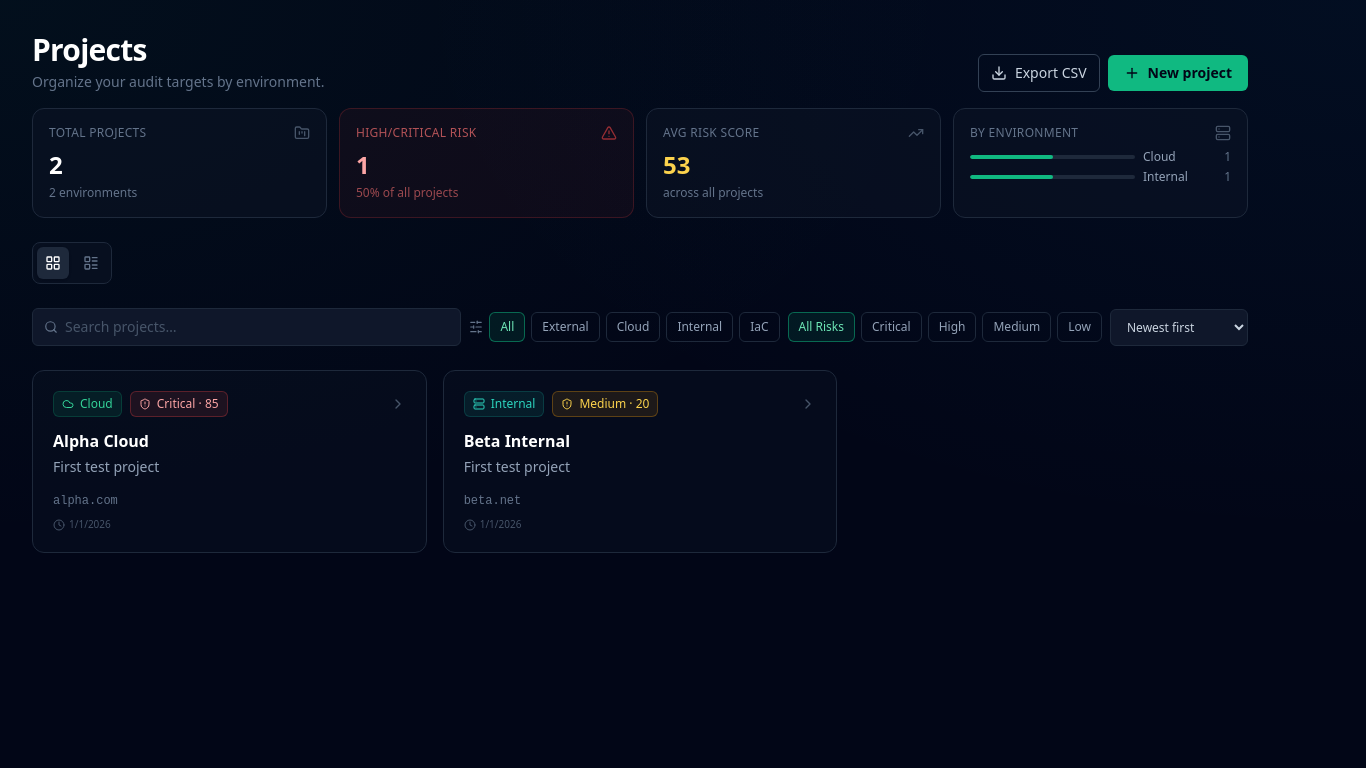
Test: Projects — search and filter › clears search via X button
expect the heading "Alpha Cloud" is shown: met, box 53,430 -> 149,452
Type "alpha" into the field with placeholder "Search projects…" at (247, 327), box 32,308 -> 461,346
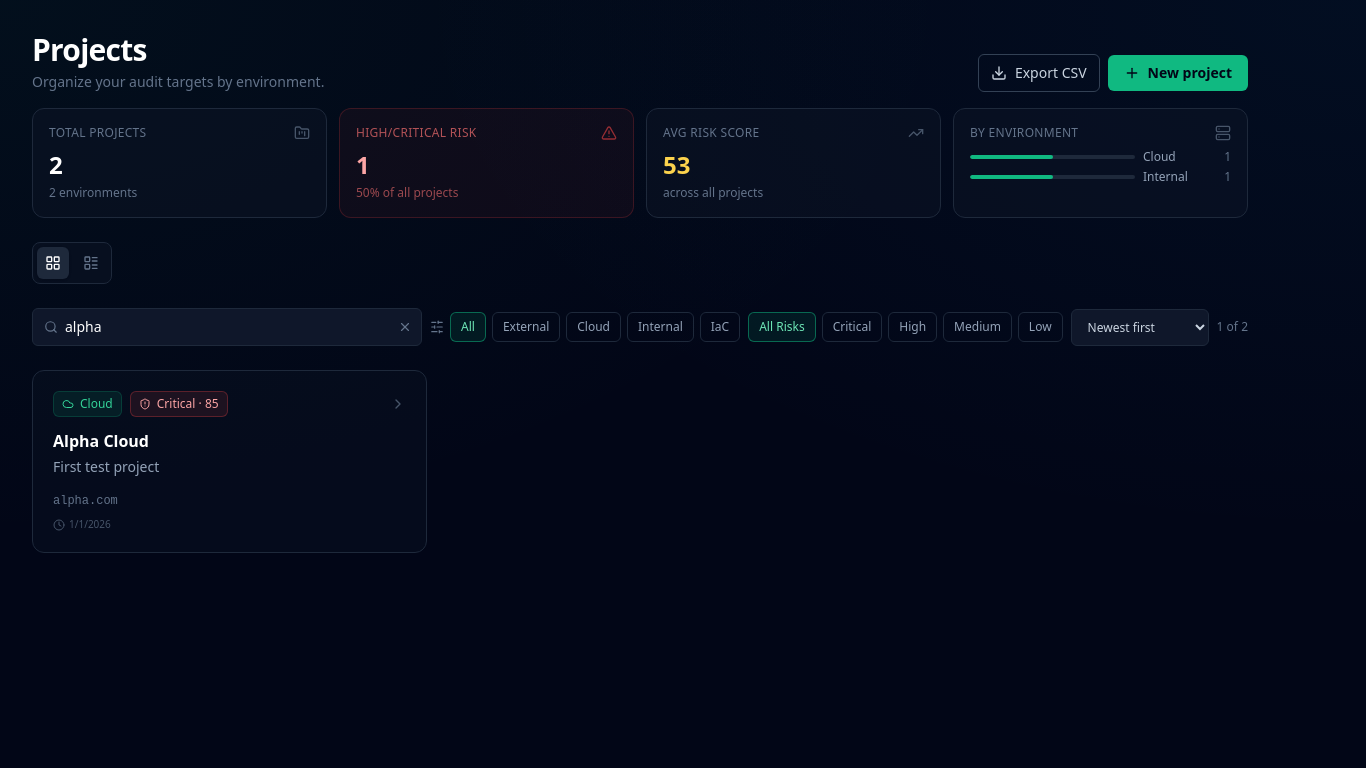
Click the button named "Clear search" at (405, 327), box 398,320 -> 412,334
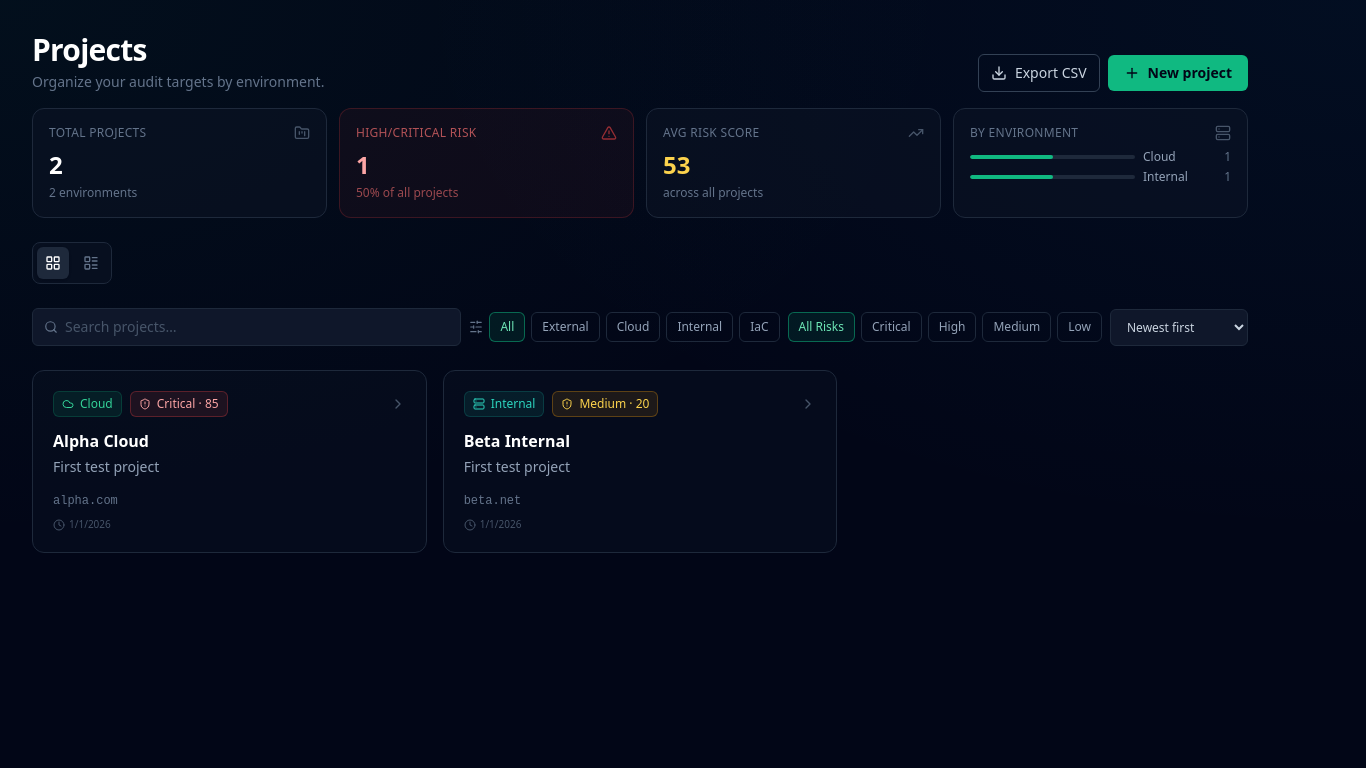
expect the heading "Beta Internal" is shown: met, box 464,430 -> 570,452
